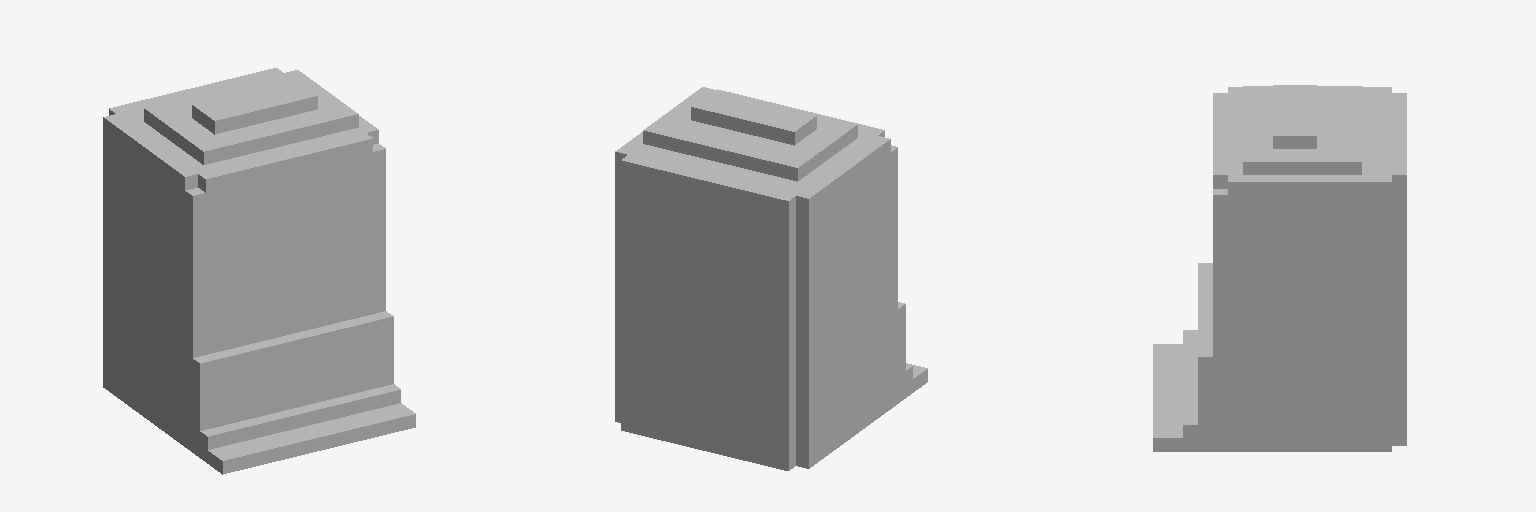
File: ghost.obj
3 renders of one model, left to right at view 1: azimuth 30°, elevation 25°; view 2: azimuth 150°, elevation 25°; view 3: azimuth 270°, elevation 25°, orthographic.
Size of the model in its own units: 15 by 22 by 17.